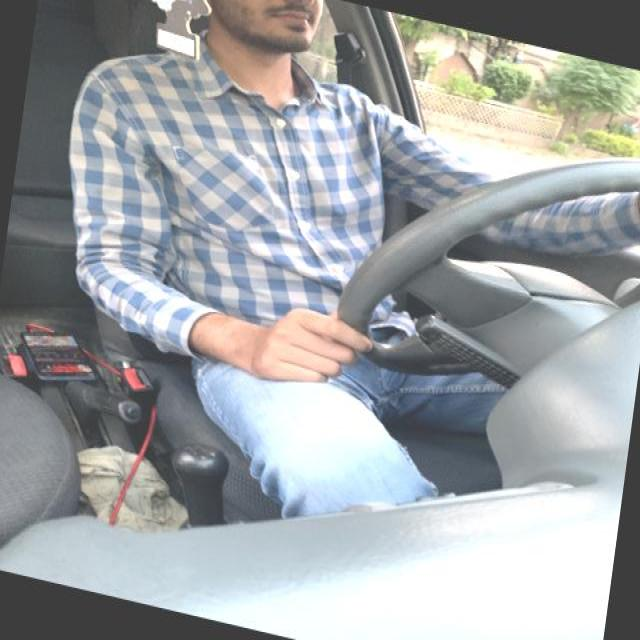no-seatbelt: (111, 42, 472, 402)
